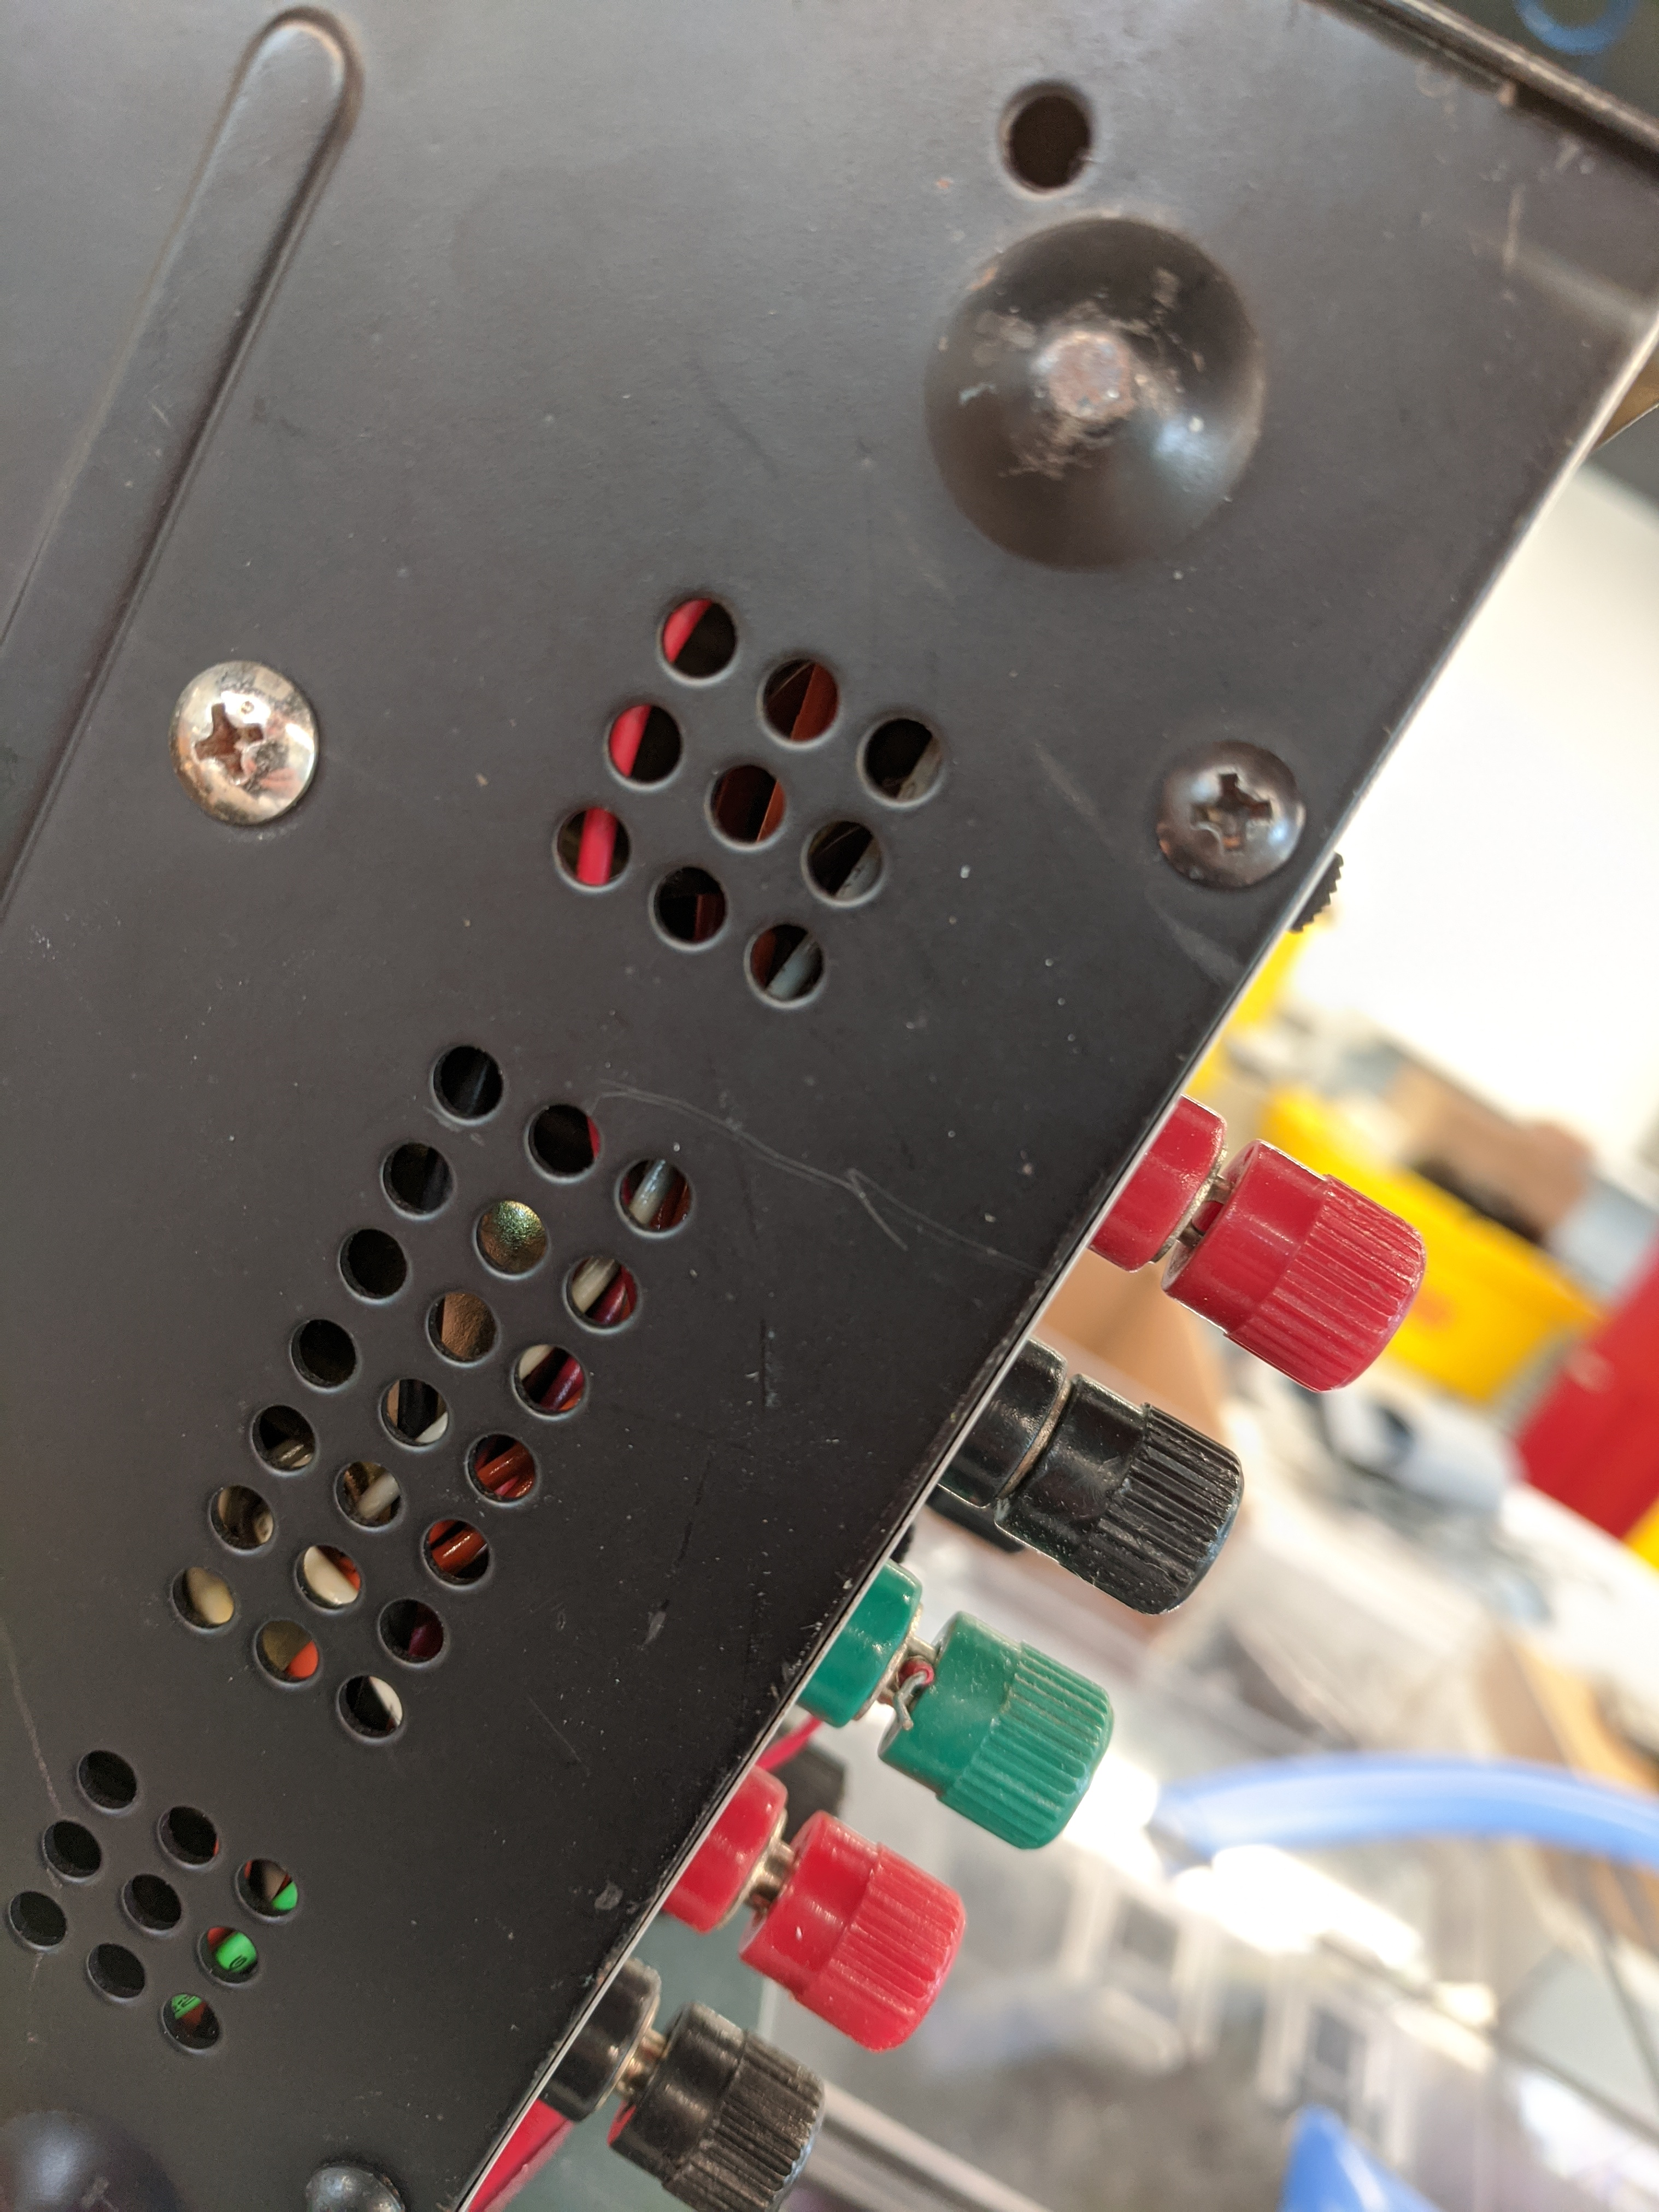cross_recessed_screw: (1147, 733, 1309, 894), (159, 655, 308, 820)
